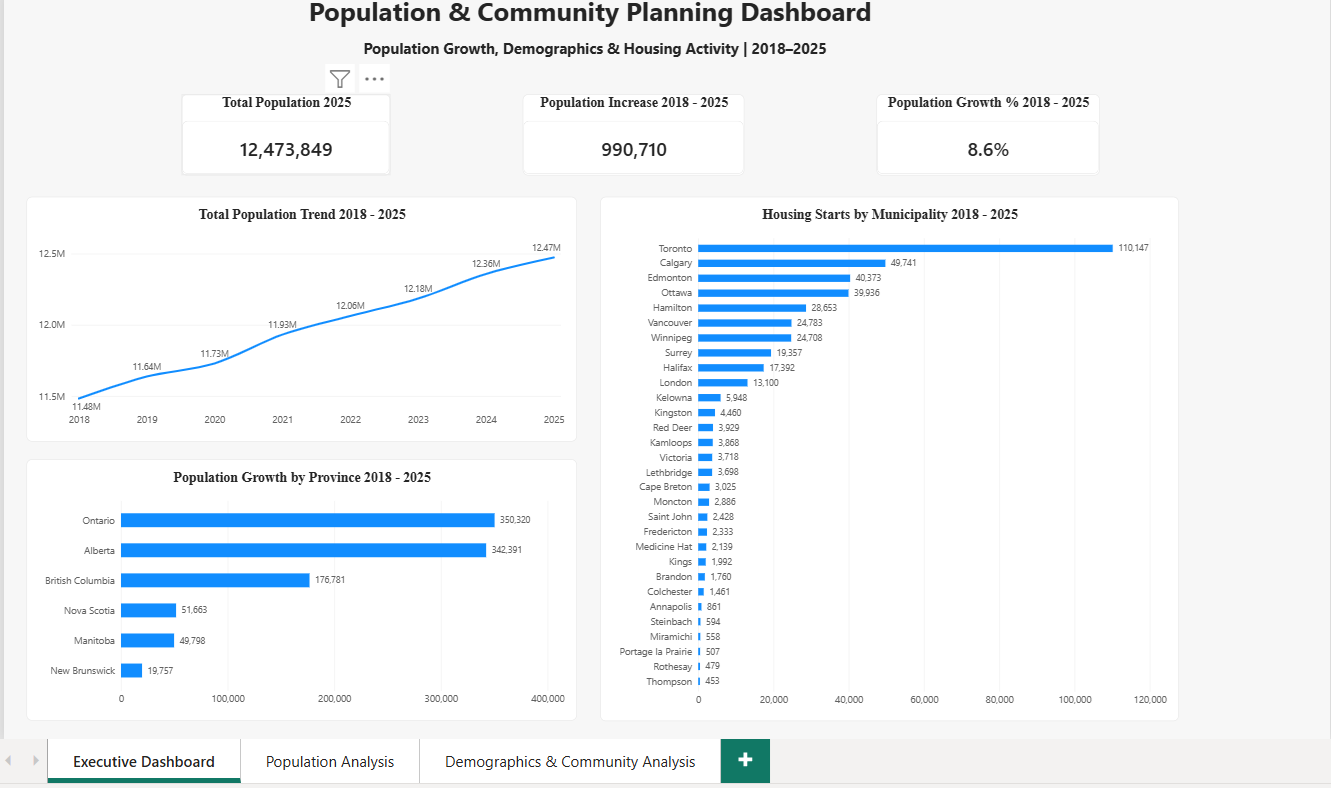

Layout of this report page (visuals, bound fields, positions):
{"tool":"powerbi","page":{"name":"Executive Dashboard","canvas":[1920,1080],"ordinal":0},"visuals":[{"type":"textbox","box":[10.3,0,1675.5,65.9],"z":0},{"type":"textbox","box":[10.3,65.9,1689.9,47.3],"z":1000},{"type":"cardVisual","title":"Total Population 2025","fields":{"Data":["Population Data.Total Population"]},"box":[257.3,146.1,302.6,117.3],"z":2000},{"type":"cardVisual","title":"Population Increase 2018 - 2025","fields":{"Data":["Population Data.Population Increase"]},"box":[751.3,146.1,321.1,117.3],"z":3000},{"type":"cardVisual","title":"Population Growth % 2018 - 2025","fields":{"Data":["Population Data.Population Growth %"]},"box":[1263.8,146.1,323.2,117.3],"z":4000},{"type":"lineChart","title":"Total Population Trend 2018 - 2025","fields":{"Category":["Population Data.Year"],"Y":["Population Data.Total Population"]},"box":[32.9,294.3,796.6,354],"z":5000},{"type":"clusteredBarChart","title":"Population Growth by Province 2018 - 2025","fields":{"Category":["Population Data.Province"],"Y":["Population Data.Province Population Growth"]},"box":[32.9,675.1,796.6,378.7],"z":6000},{"type":"clusteredBarChart","title":"Housing Starts by Municipality 2018 - 2025","fields":{"Category":["Population Data.Municipality"],"Y":["Sum(Population Data.Housing Starts)"]},"box":[862.4,294.3,837.7,759.5],"z":7000}]}

Visuals, with their boxes on the page's 1920x1080 design canvas (x1, y1, x2, y2). These are canvas units, not pixel positions in the 1331x788 screenshot, which may show the page scaled, cropped or inside an application window:
textbox: left=10, top=0, right=1686, bottom=66
textbox: left=10, top=66, right=1700, bottom=113
"Total Population 2025" cardVisual: left=257, top=146, right=560, bottom=263
"Population Increase 2018 - 2025" cardVisual: left=751, top=146, right=1072, bottom=263
"Population Growth % 2018 - 2025" cardVisual: left=1264, top=146, right=1587, bottom=263
"Total Population Trend 2018 - 2025" lineChart: left=33, top=294, right=830, bottom=648
"Population Growth by Province 2018 - 2025" clusteredBarChart: left=33, top=675, right=830, bottom=1054
"Housing Starts by Municipality 2018 - 2025" clusteredBarChart: left=862, top=294, right=1700, bottom=1054
